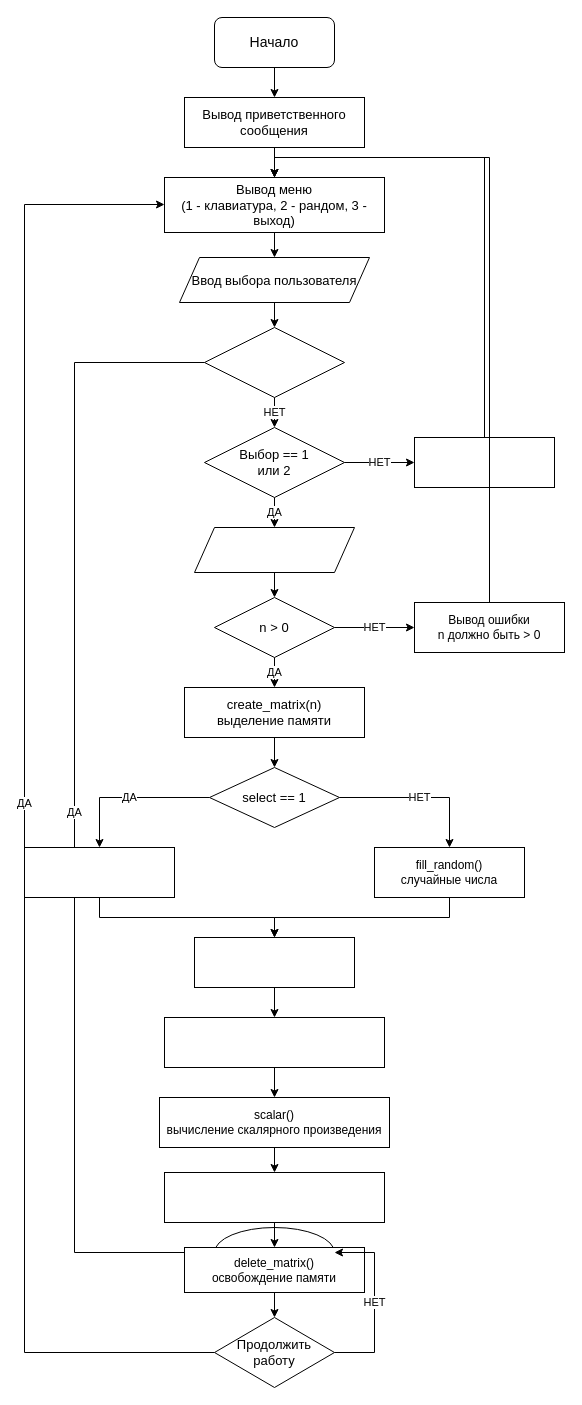
Image size: 582x1405. Some labels were removed from this diagram. The shapes that lost their labels are listed below. From the top down, each one's box as (x1, y1, x2, y2) in pixels, then its label:
(204, 326, 344, 398): Выбор == 3
(414, 436, 554, 488): Вывод "Неправильный выбор"
(194, 526, 354, 572): Ввод n
(24, 846, 174, 898): fill_keyboard() ввод с клавиатуры
(194, 936, 354, 988): print_matrix() вывод матрицы
(164, 1016, 384, 1068): find_max_min() поиск строки max и столбца min
(164, 1172, 384, 1222): Вывод номера строки, столбца и скалярного произведения
